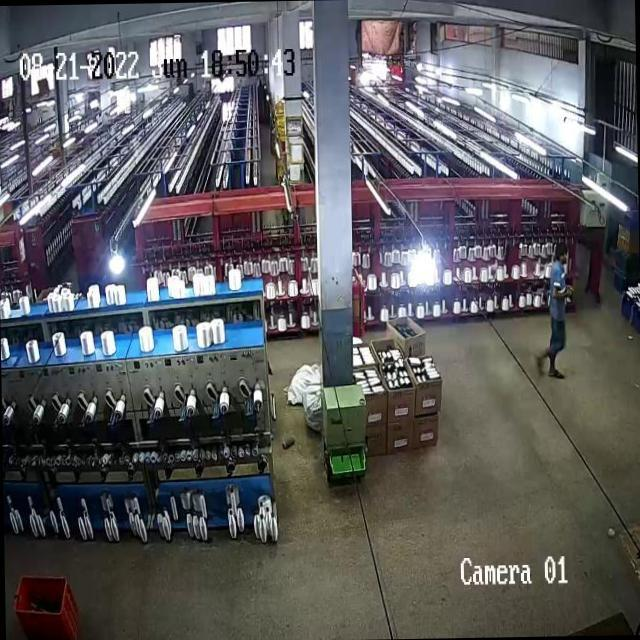person: (545, 245, 570, 377)
